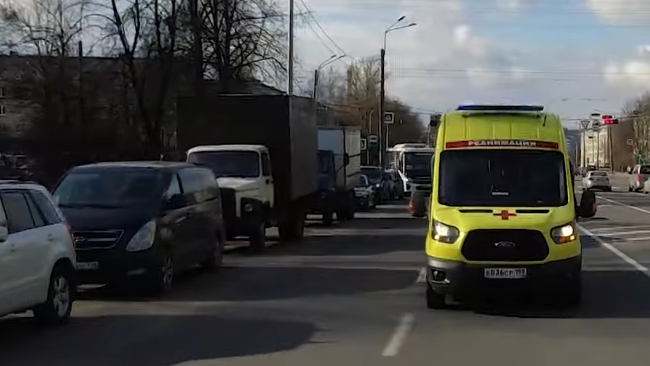intensive care unit: (424, 102, 583, 315)
non emergency car: (44, 160, 225, 297), (176, 96, 317, 266), (1, 175, 78, 327), (317, 121, 362, 224), (385, 140, 434, 204), (628, 162, 650, 193), (584, 169, 611, 191)
